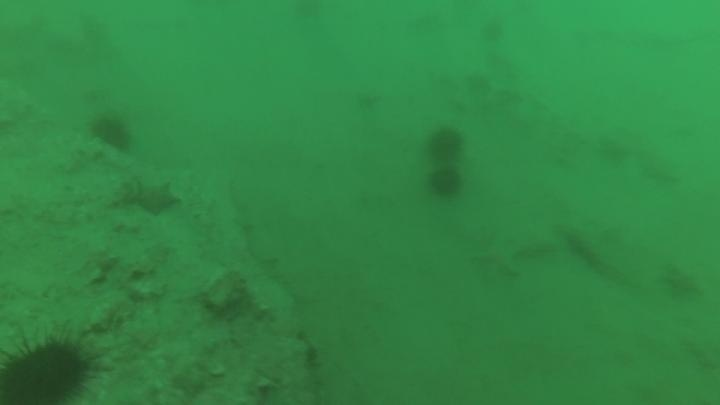echinus: (0, 331, 98, 405), (87, 111, 136, 155), (424, 124, 467, 164), (425, 165, 465, 202), (477, 17, 507, 46)
starfish: (468, 232, 526, 284), (116, 176, 183, 219), (657, 262, 704, 303)
